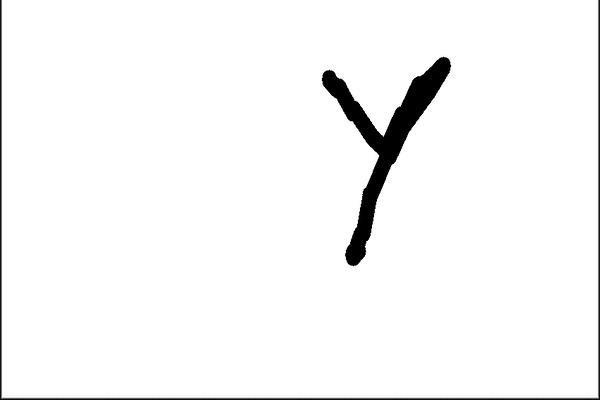Y: (303, 52, 461, 276)
